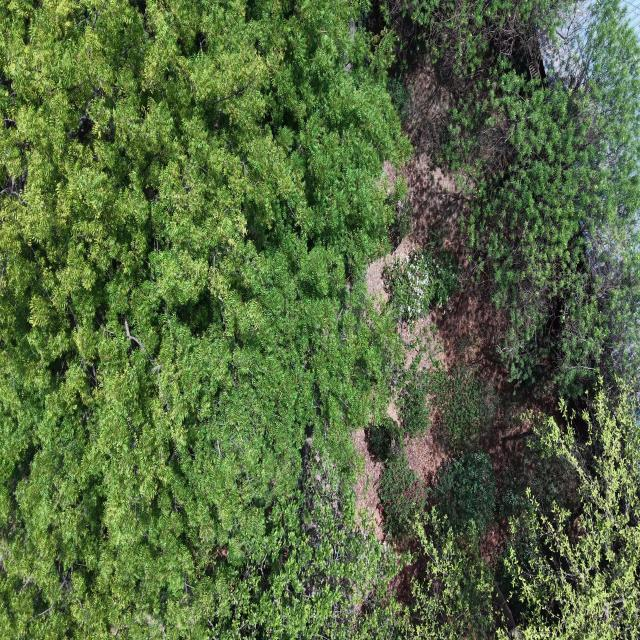DRY_AREA: (366, 64, 539, 481), (403, 63, 508, 390), (399, 283, 540, 481), (433, 279, 559, 490), (399, 292, 539, 478), (366, 149, 466, 308), (366, 158, 468, 308), (366, 159, 465, 301), (403, 63, 467, 271), (432, 270, 512, 392), (480, 390, 557, 490), (404, 154, 467, 267), (404, 59, 455, 157), (481, 403, 530, 490), (366, 235, 416, 308), (352, 430, 384, 541), (352, 429, 383, 541), (366, 237, 416, 305), (353, 430, 383, 540), (398, 314, 446, 370), (404, 427, 448, 486), (405, 430, 448, 486), (390, 544, 424, 605), (480, 519, 509, 568)
ROOFTOP_BUILDING: (530, 0, 593, 83), (622, 0, 639, 38)
VEGETATION_TREE: (0, 0, 639, 639), (0, 0, 408, 638), (388, 2, 639, 638), (388, 0, 639, 397), (446, 2, 639, 397), (0, 460, 400, 637), (448, 47, 639, 396), (411, 381, 639, 639), (502, 379, 639, 638), (382, 0, 572, 91), (411, 509, 497, 639), (399, 360, 497, 452), (420, 362, 497, 452), (383, 248, 459, 322), (434, 452, 496, 533), (379, 451, 428, 538), (496, 456, 552, 518), (399, 360, 432, 436), (388, 176, 412, 247), (369, 417, 403, 461), (387, 76, 409, 119)
